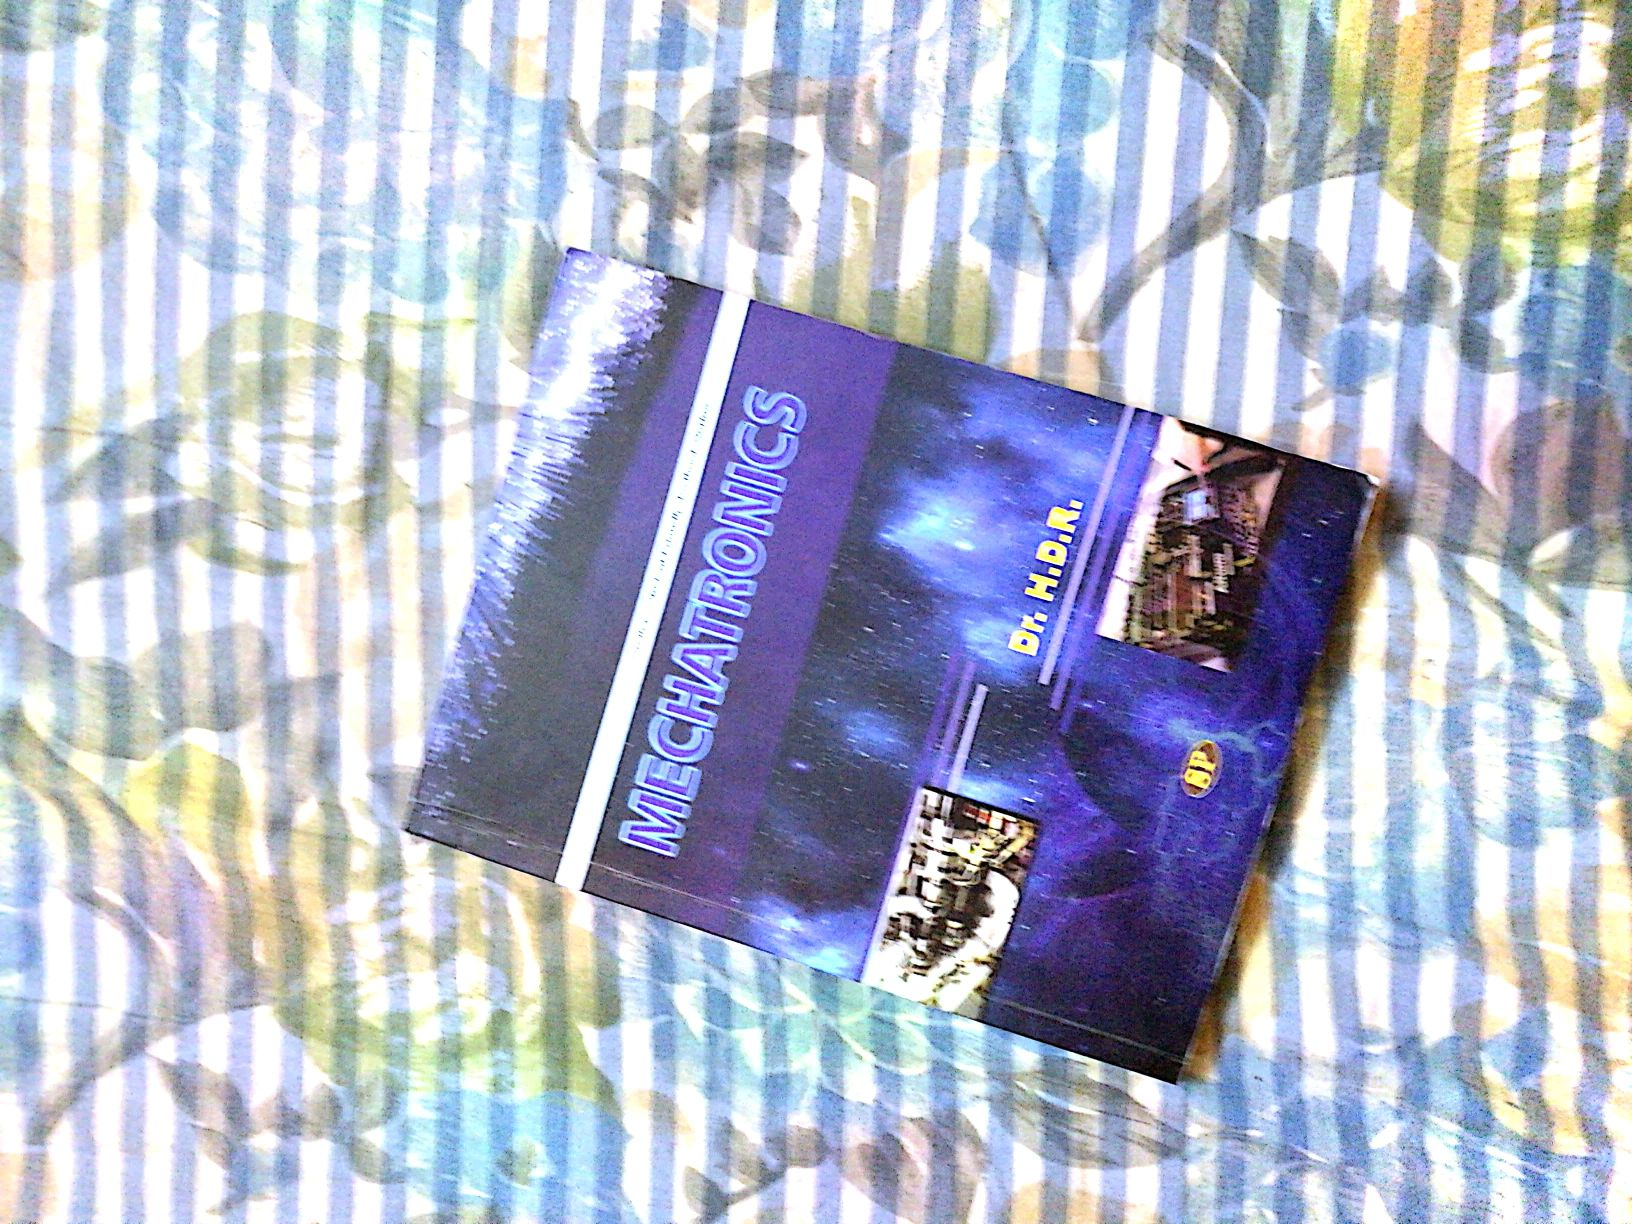mechatronics: (395, 249, 1351, 1130)
